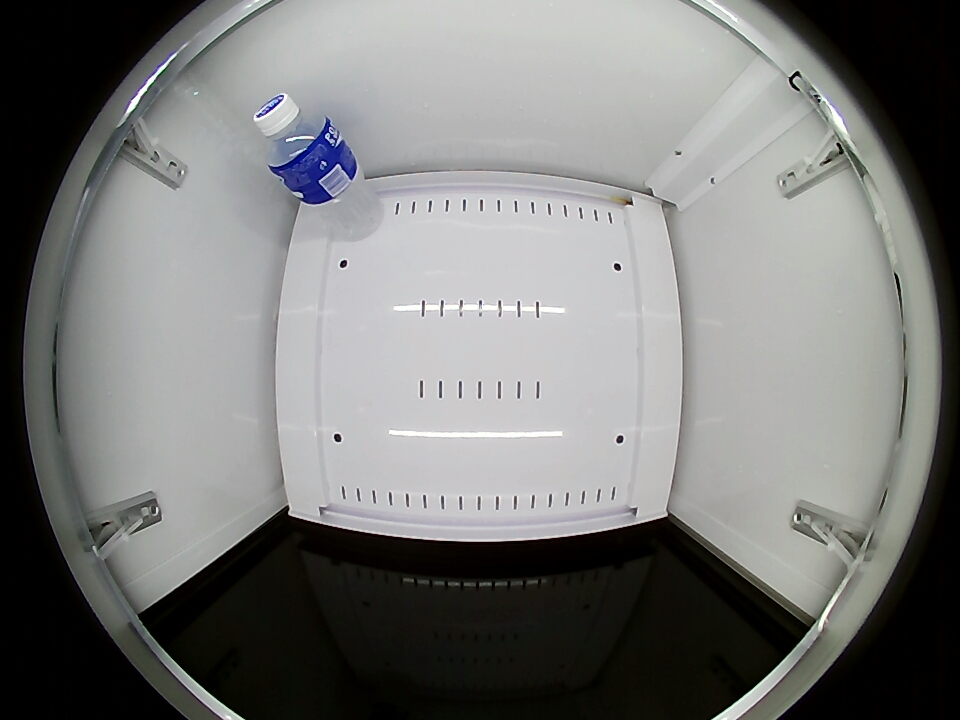baokuangli: (254, 93, 337, 178)
